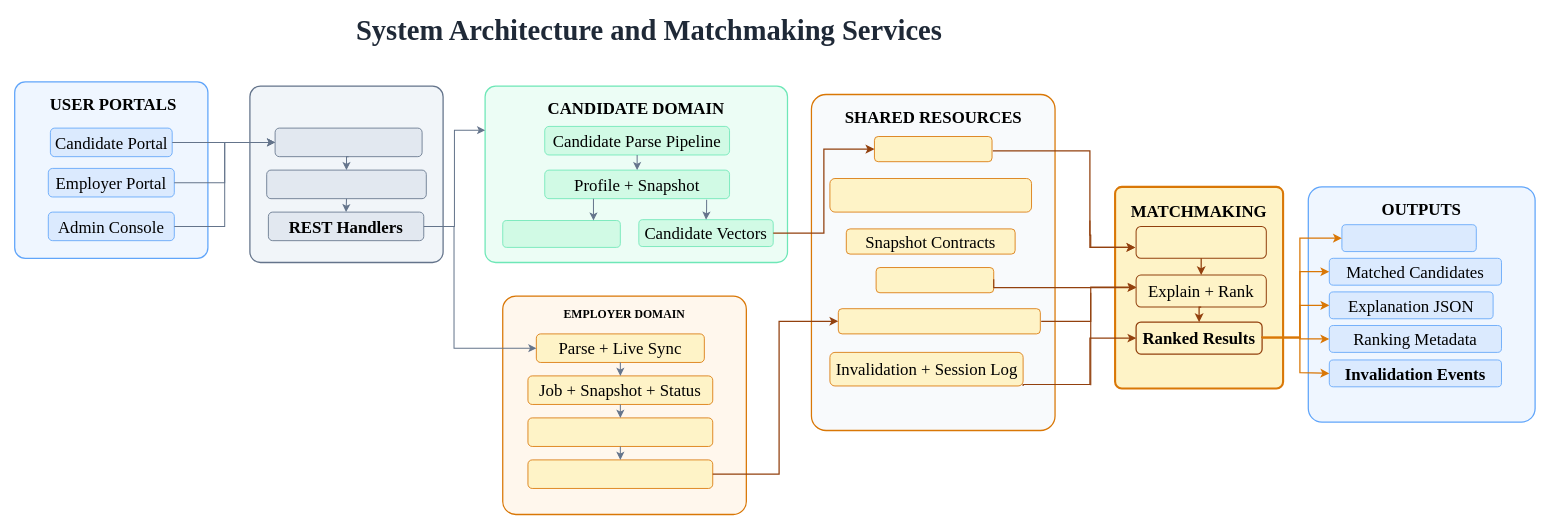
The diagram is 1551 pixels wide and 530 high, and some of its shapes have lost their labels. The box of each missing label's shape, as (x1, y1, x2, y2) in pixels:
ACCESS LAYER: (249, 85, 443, 263)
Activity SQLite: (502, 220, 620, 247)
Auth Sessions Roles: (274, 127, 422, 157)
Bootstrap JSON CVs + Jobs: (829, 178, 1032, 212)
Event Bus: (875, 267, 994, 293)
Fusion Calibration Models: (837, 308, 1040, 334)
Job Vectors: (527, 459, 713, 488)
Live Jobs Sync: (527, 417, 713, 446)
Matched Jobs: (1341, 224, 1476, 252)
ReadOnly Middleware: (266, 169, 426, 199)
Retrieve + Score: (1135, 225, 1266, 258)
Skill Catalog: (874, 136, 992, 162)
